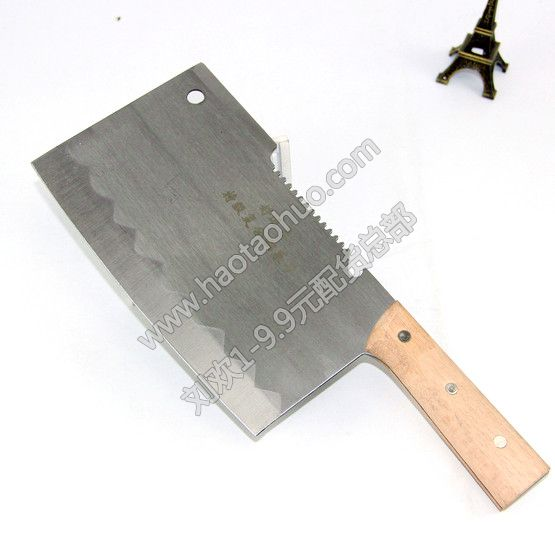knief: (28, 86, 540, 502)
